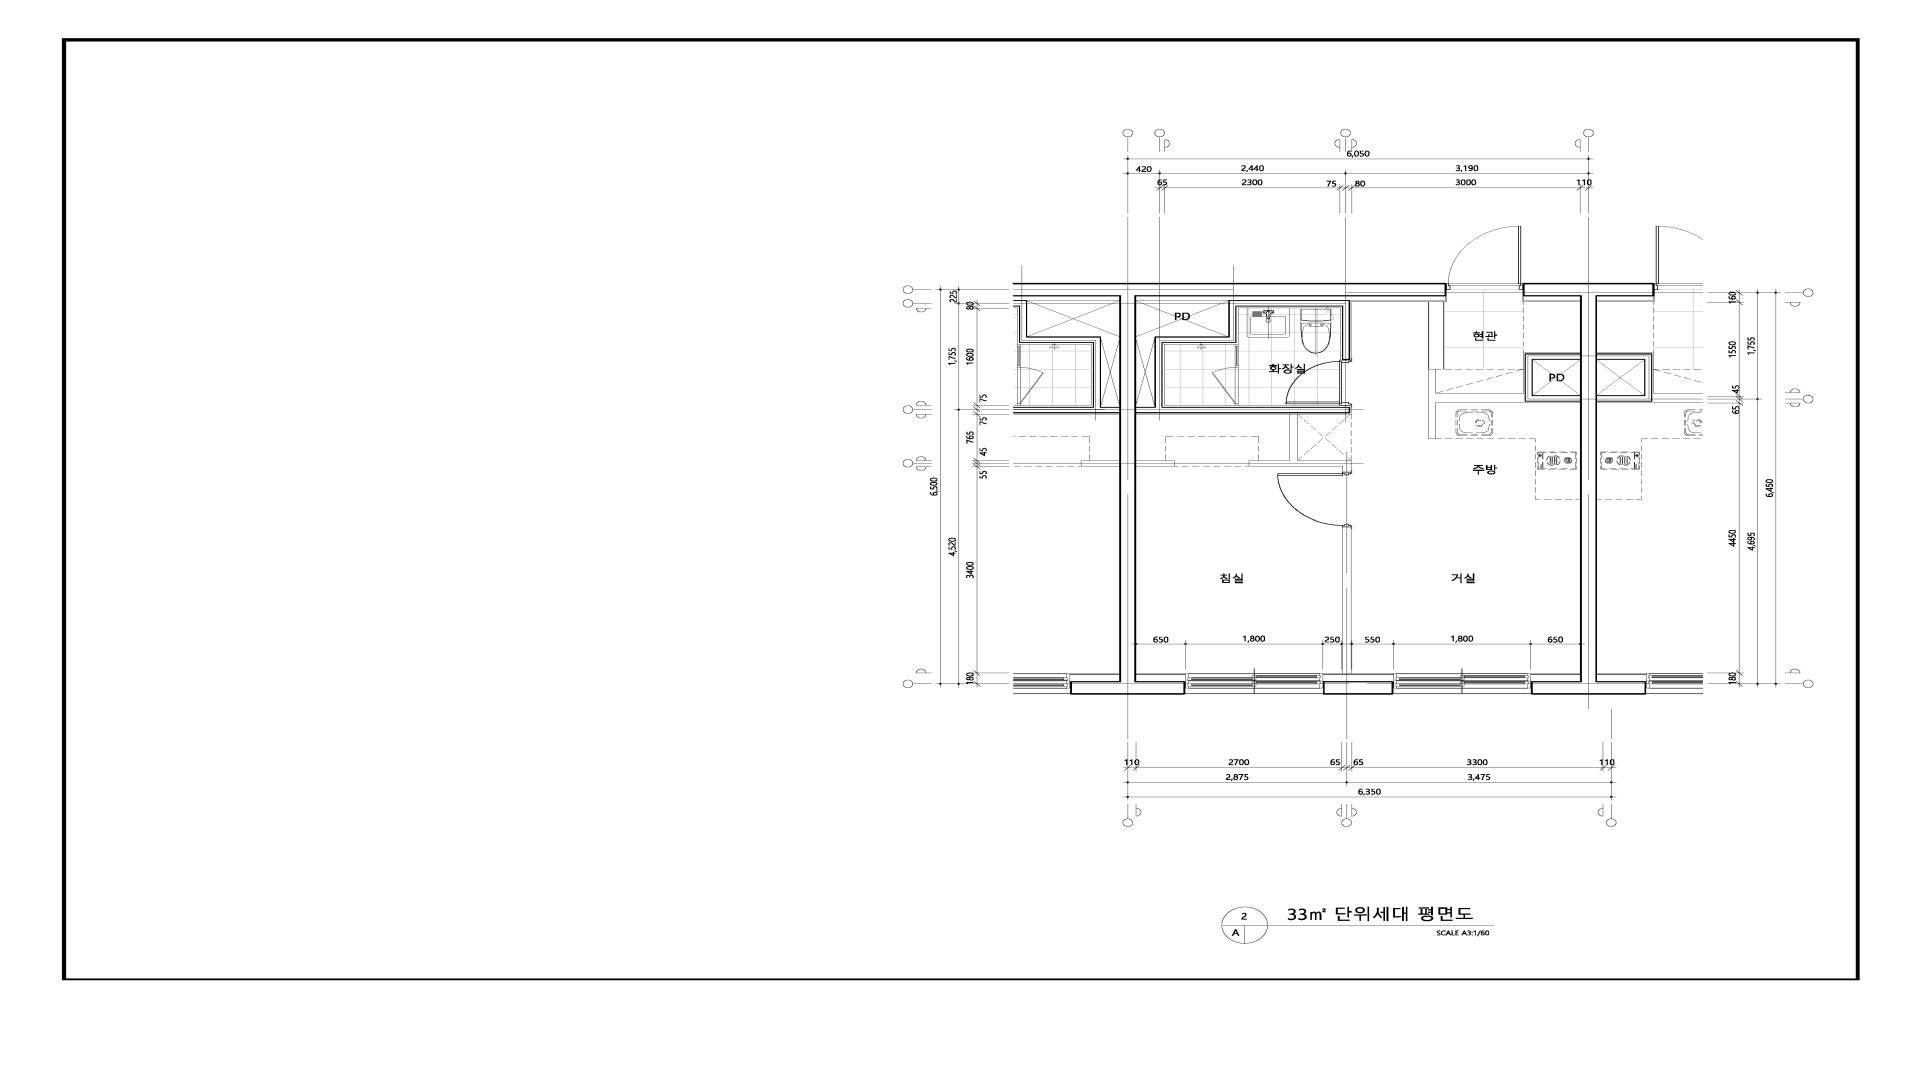door: (1447, 225, 1523, 290), (1274, 472, 1352, 527), (1286, 360, 1352, 406), (1208, 367, 1238, 405)
wall: (1118, 282, 1447, 695), (1523, 282, 1597, 695), (1137, 301, 1350, 413), (1428, 352, 1580, 439), (1249, 414, 1352, 472), (1342, 527, 1352, 674), (1323, 680, 1394, 695), (1137, 460, 1175, 467), (1234, 344, 1238, 367)
window: (1185, 674, 1323, 694), (1394, 674, 1531, 694)
